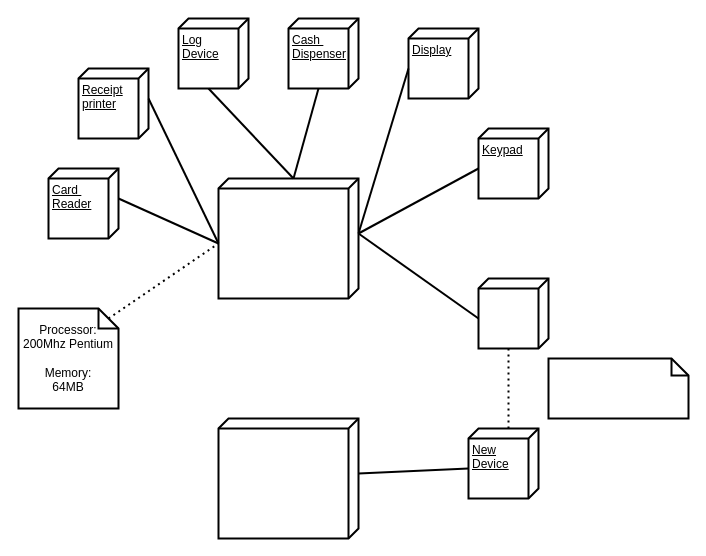
This 706x556 diagram has some shape labels left out. The shapes that lost their labels are listed below. From the top down, each one's centre as x and y in pixels, then its label:
the point at 288,238: ATM Node
the point at 513,313: Network interface
the point at 618,388: I1 network connection
the point at 288,478: Bank Server
